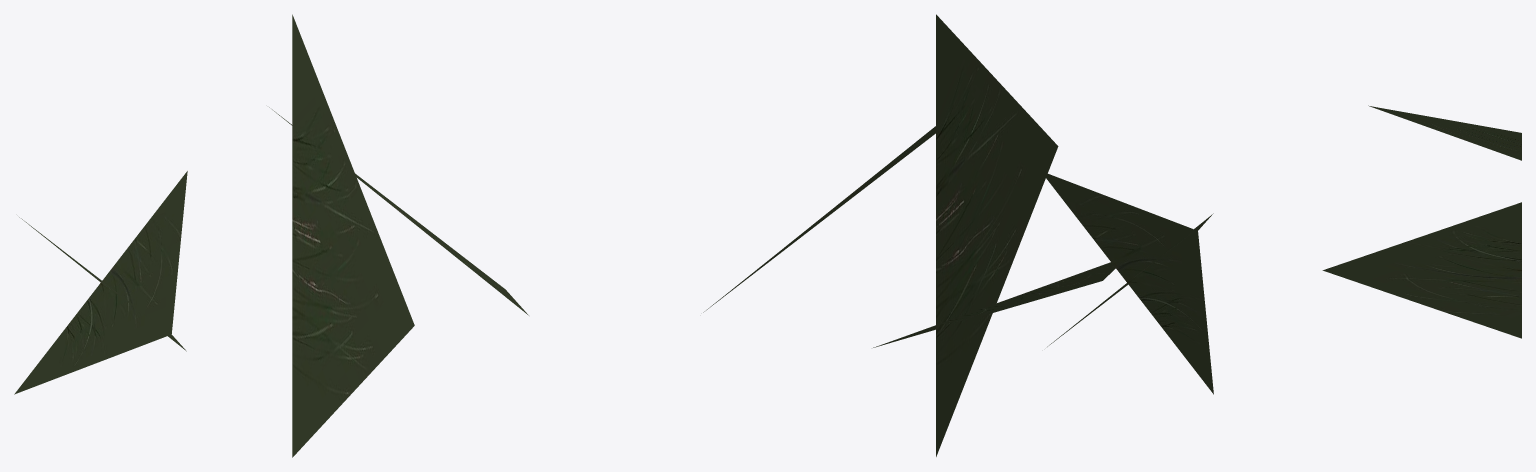
The model's file is brush_newgrass_triangularclump.glb.
3 renders of one model, left to right at view 1: azimuth 30°, elevation 25°; view 2: azimuth 150°, elevation 25°; view 3: azimuth 270°, elevation 25°, orthographic. The views are drawn at different scales.
Size of the model in its own units: 78.18 by 56.61 by 35.04.
1 material, 1 textured.
